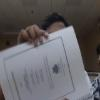notebook: (0, 25, 94, 99)
